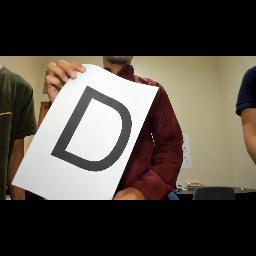d: (48, 82, 140, 176)
